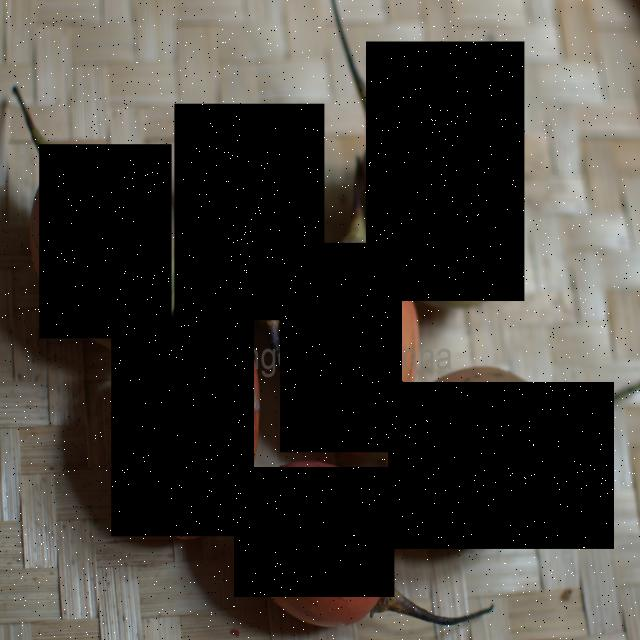Tree_Tomato: (366, 42, 525, 302), (388, 382, 614, 550), (174, 104, 324, 321), (111, 316, 254, 536), (39, 144, 172, 339), (280, 243, 402, 452), (234, 467, 395, 597)
